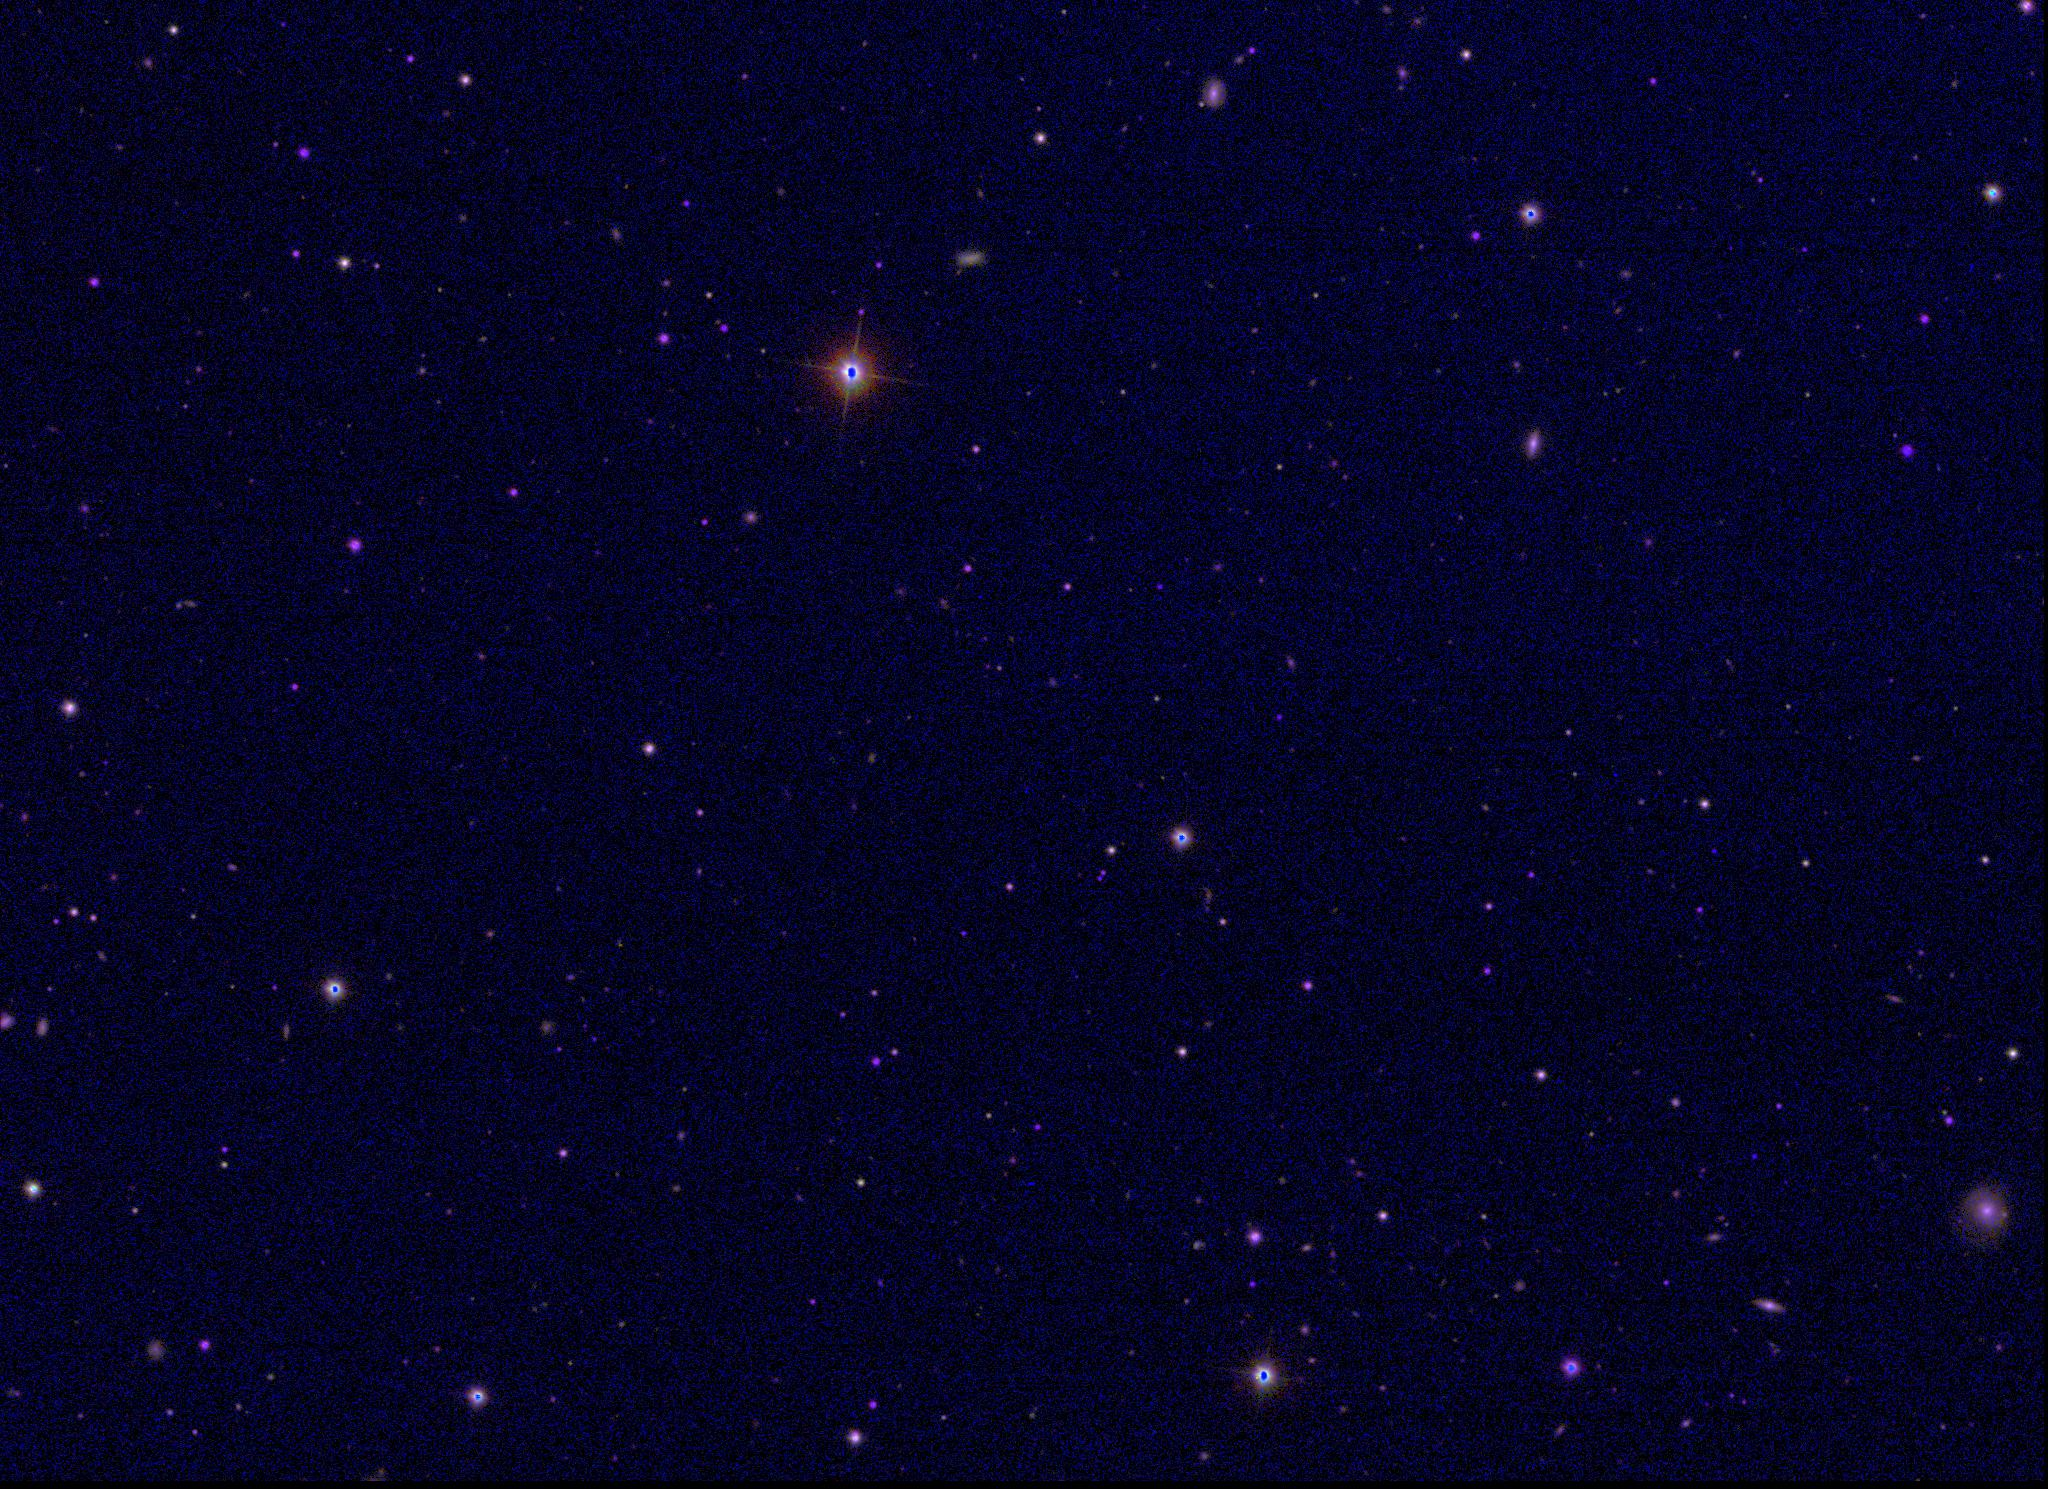L: (1708, 843, 1720, 857)
